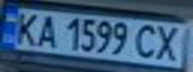1: (60, 15, 81, 52)
5: (78, 16, 96, 53)
9: (109, 19, 133, 56), (93, 18, 115, 55)
A: (33, 12, 60, 48)
C: (133, 21, 163, 61)
K: (9, 10, 42, 46)
X: (151, 23, 187, 62)
